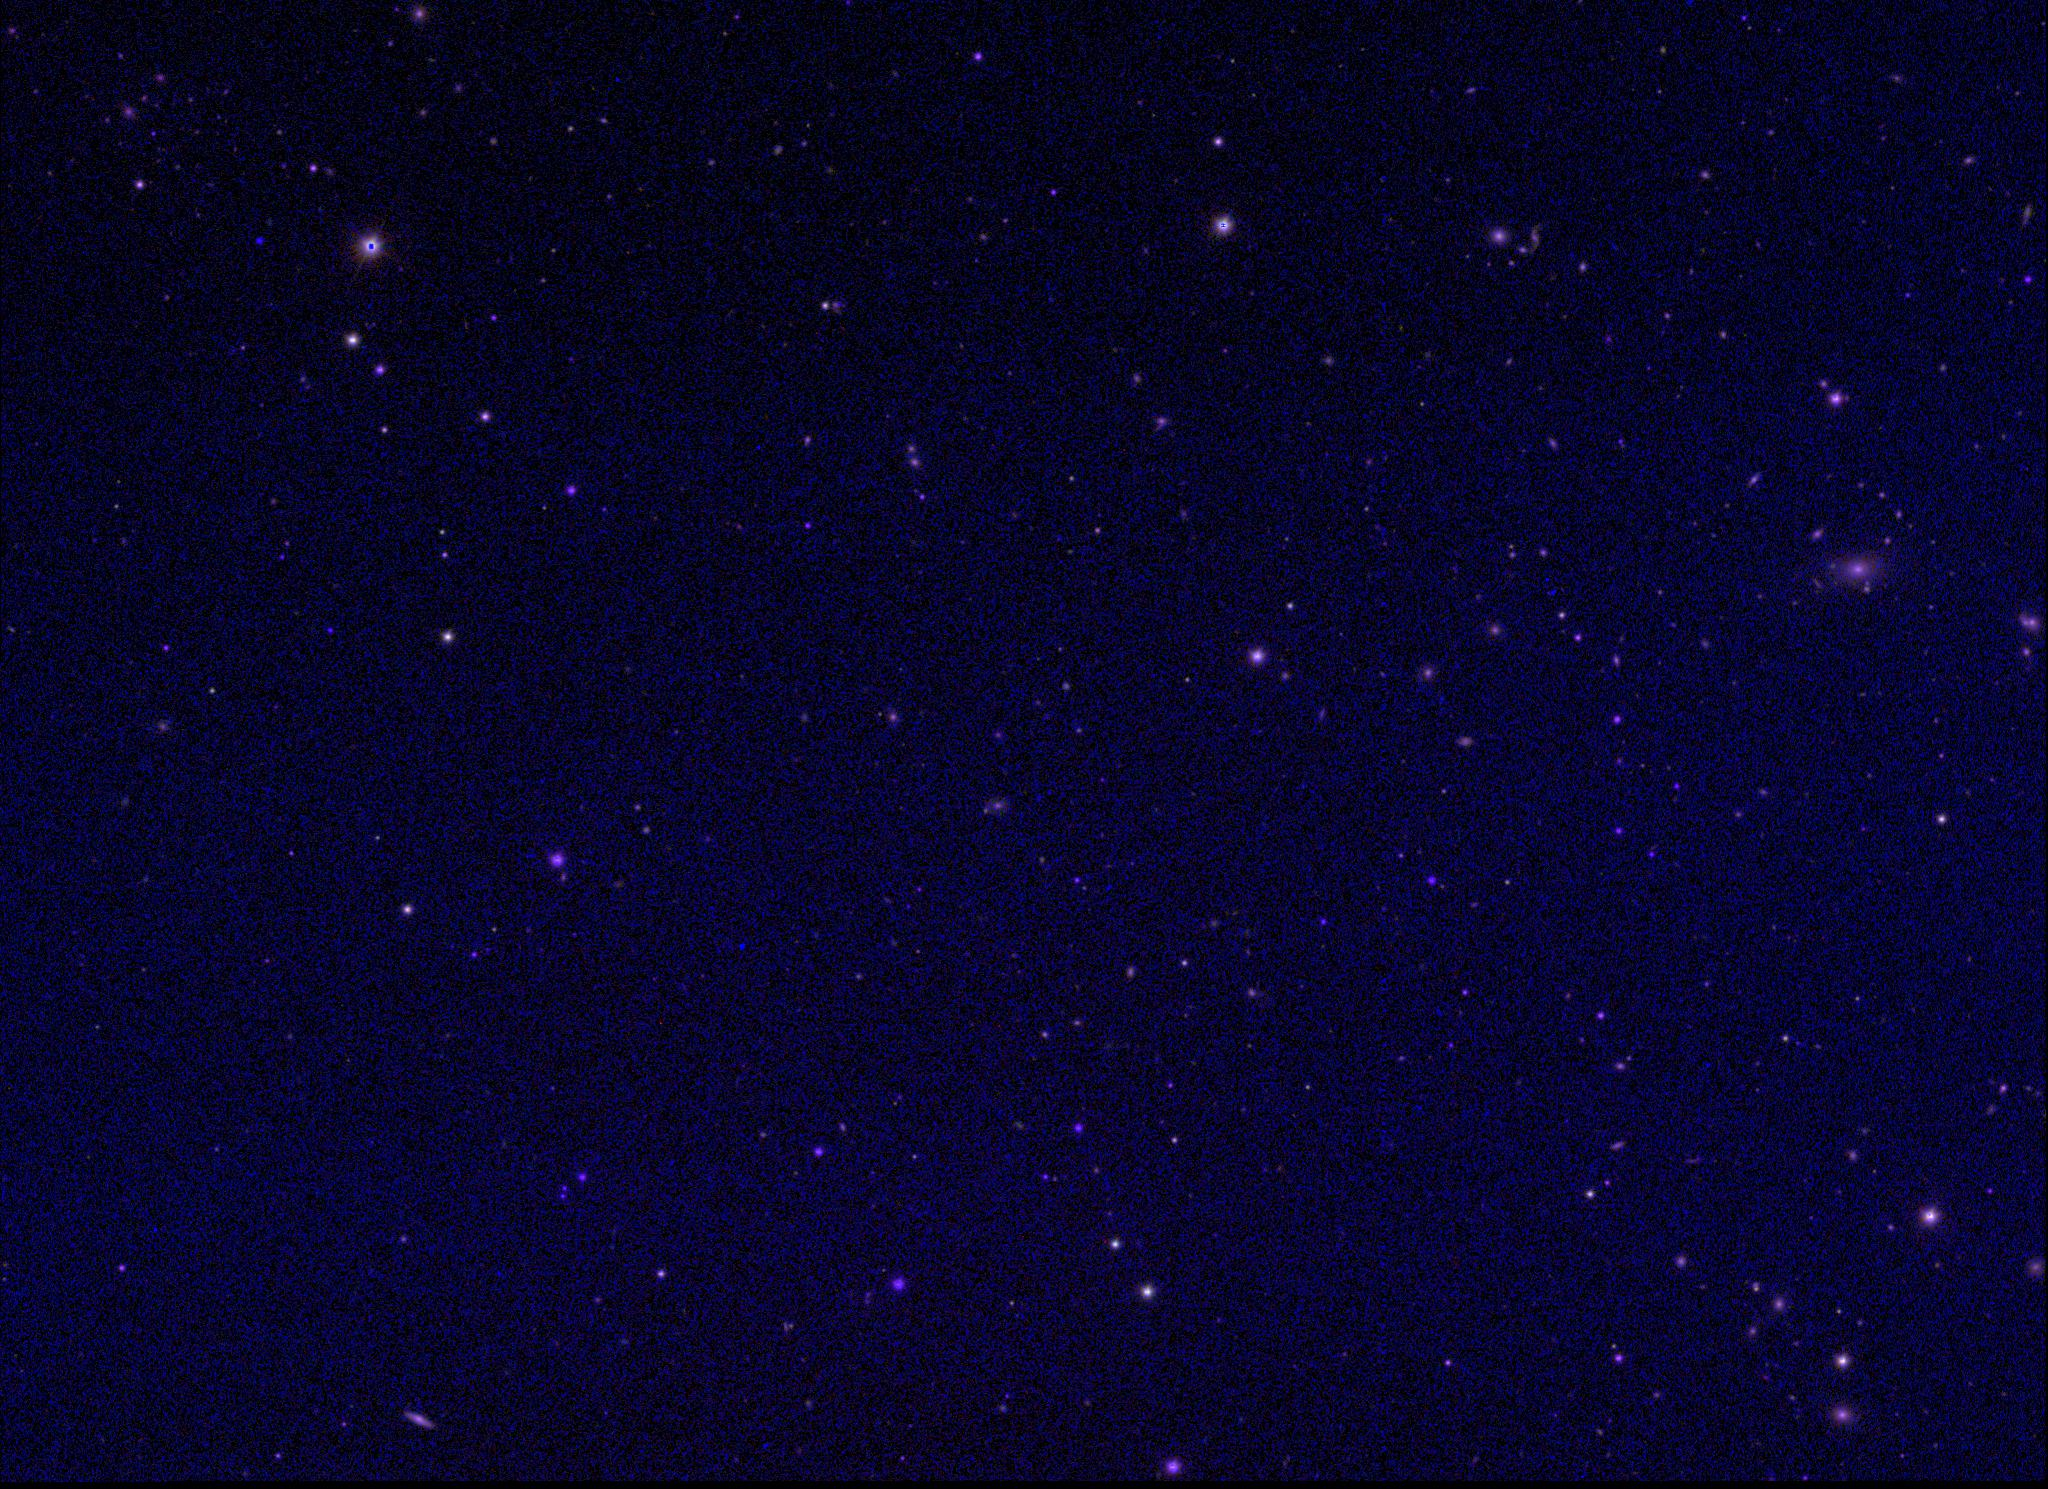L: (251, 232, 266, 247)
